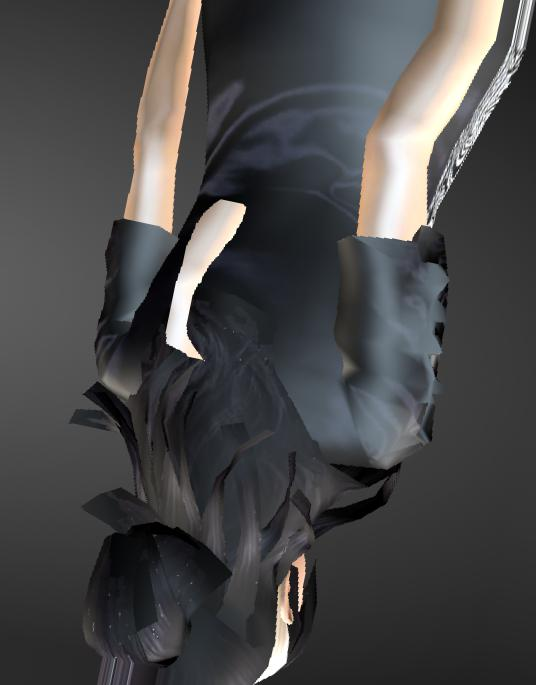clip: (165, 281, 215, 363)
